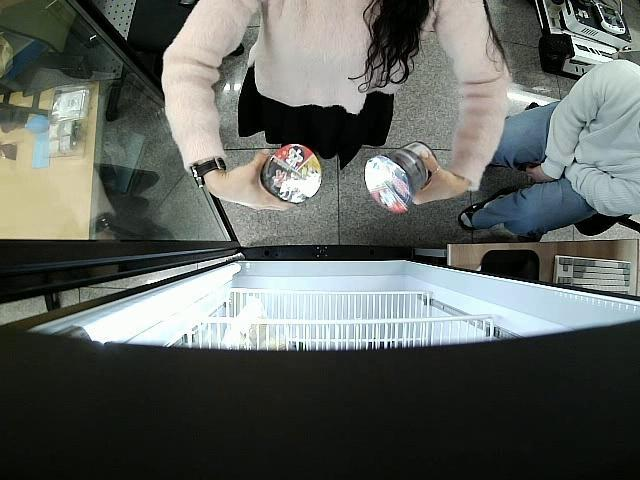08_buldak_S: (364, 142, 438, 213), (264, 144, 322, 204)
